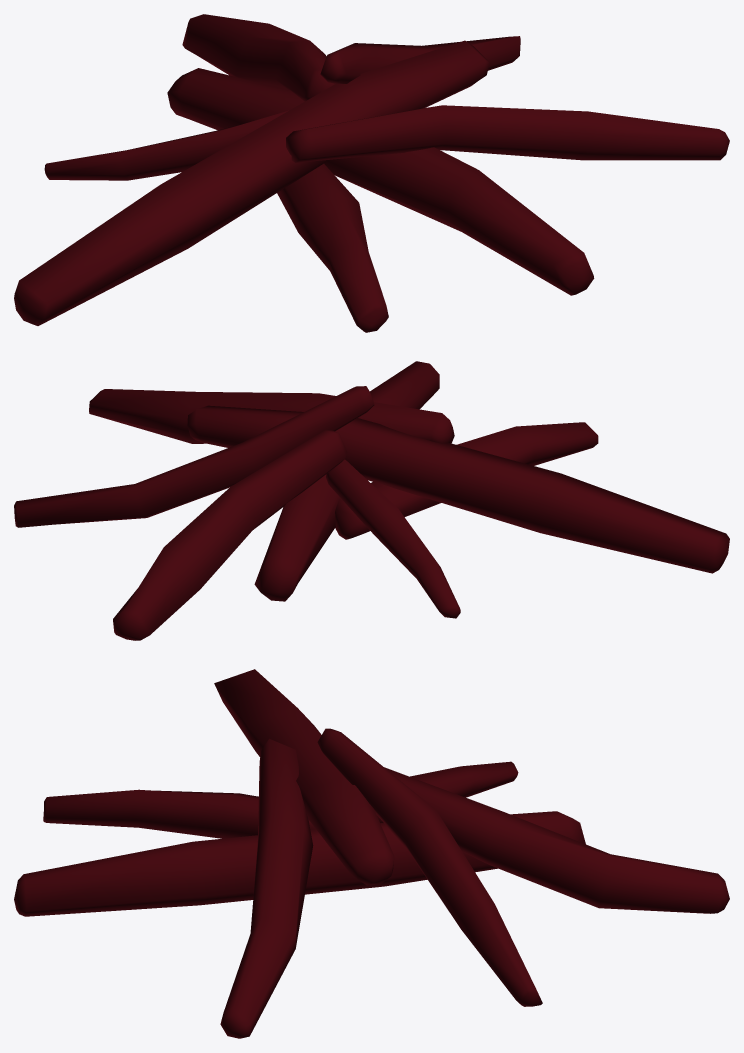
The model's file is Sticks.fbx.
3 views of the same model, one above another, from view 1: azimuth 30°, elevation 25°; view 2: azimuth 150°, elevation 25°; view 3: azimuth 270°, elevation 25° (orthographic). The views are drawn at different scales.
Visible parts, largest first — view 1: Sticks_LOD0; view 2: Sticks_LOD0; view 3: Sticks_LOD0.
Boxes of the visible parts, <box> form: Sticks_LOD0: <box>14,14,729,332</box>; Sticks_LOD0: <box>14,361,729,640</box>; Sticks_LOD0: <box>14,669,729,1038</box>.
Size of what is drawn, in the model's own units: 1.31 by 0.2747 by 1.17.
